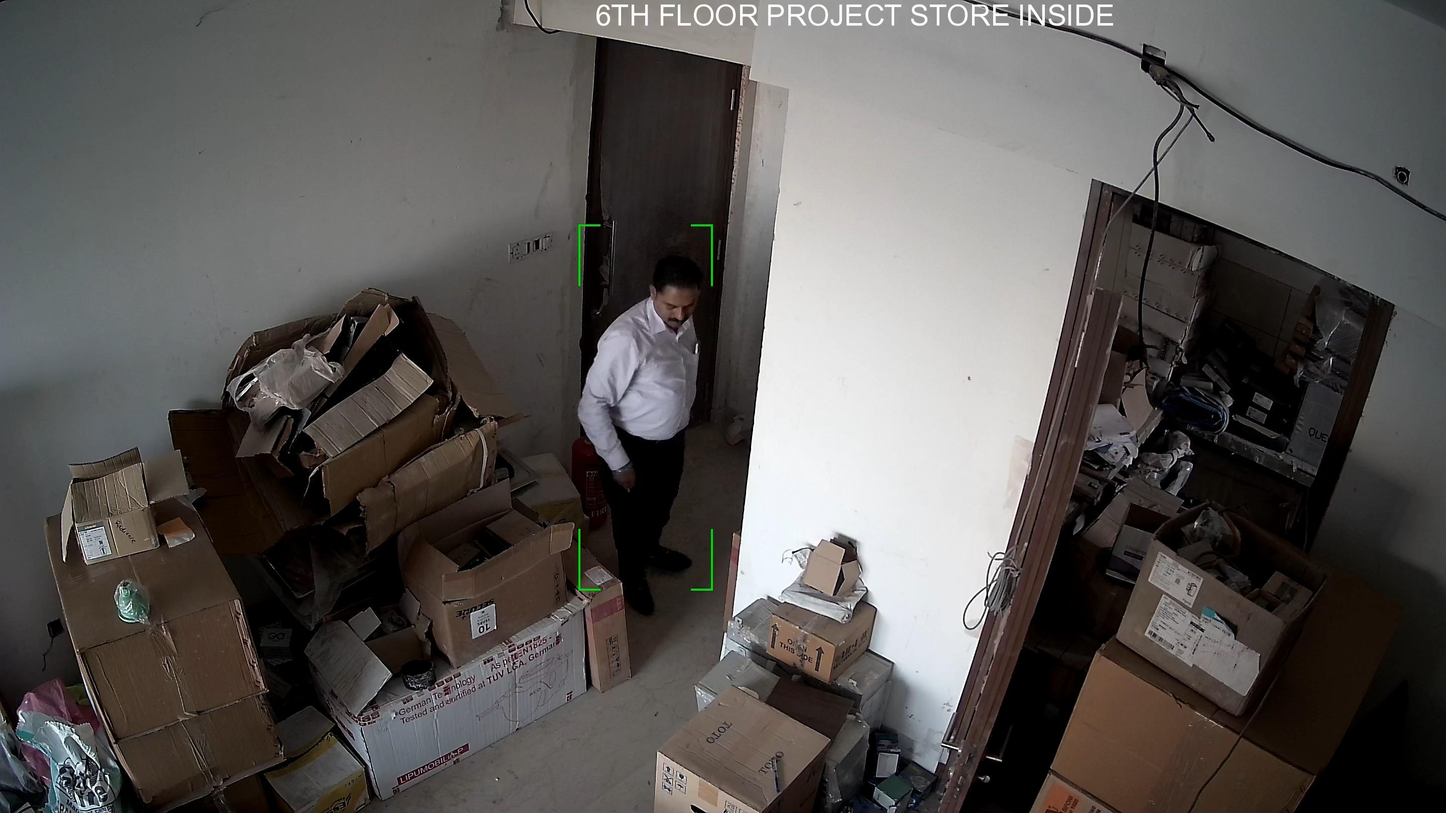Door-Close: (577, 44, 741, 507)
